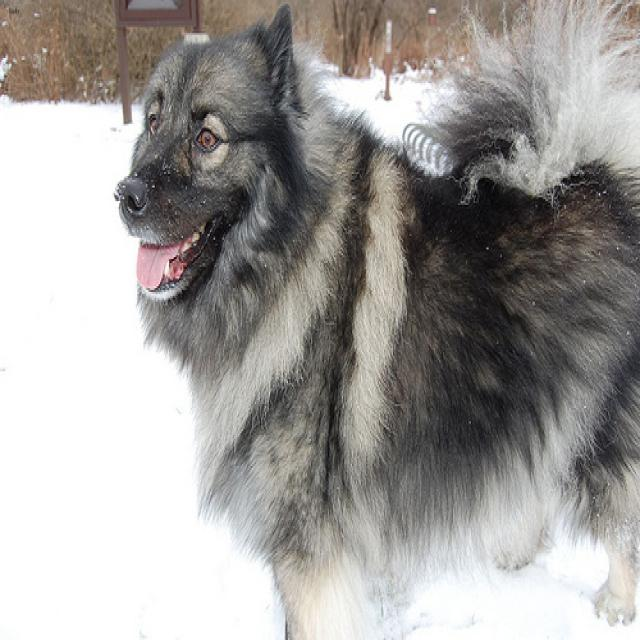dog-keeshond: (105, 2, 637, 636)
